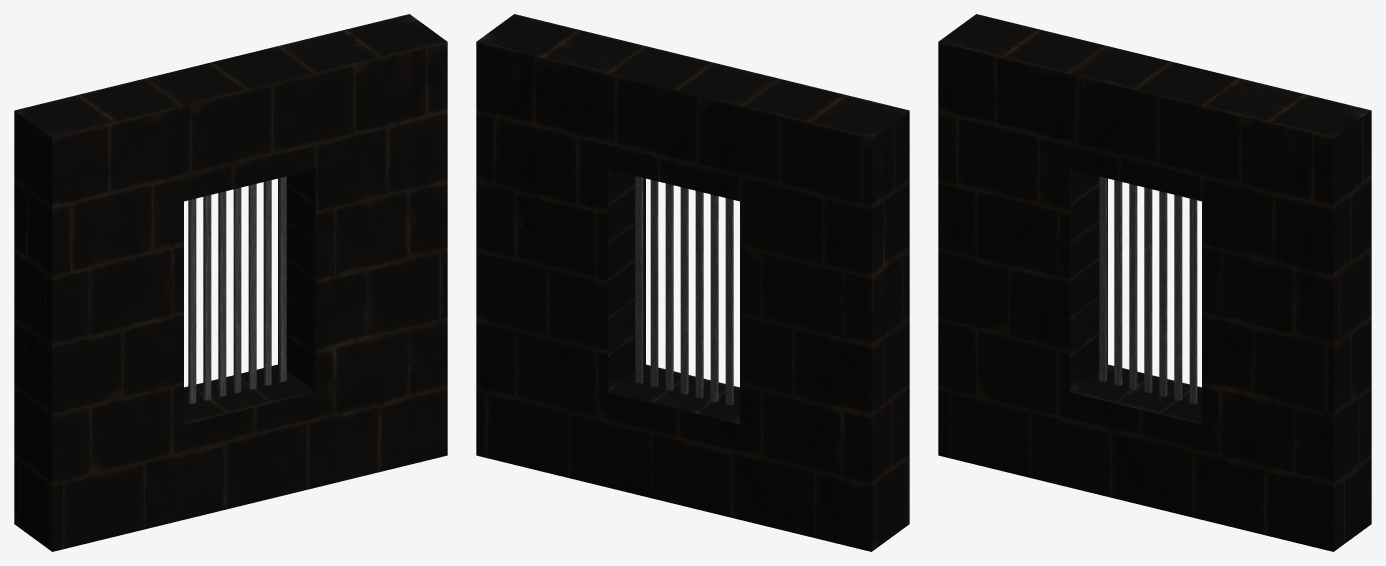
Rendered from wall_1B.fbx.
3 views of the same model, side by side, from view 1: azimuth 30°, elevation 25°; view 2: azimuth 150°, elevation 25°; view 3: azimuth 330°, elevation 25° (orthographic).
Visible parts, largest first — view 1: wall_1B; view 2: wall_1B; view 3: wall_1B.
Part boxes in pixels (x1=…): wall_1B: x1=14, y1=14, x2=447, y2=551; wall_1B: x1=476, y1=14, x2=909, y2=551; wall_1B: x1=938, y1=14, x2=1371, y2=551.
Size of the model in its own units: 600 by 600 by 100.
